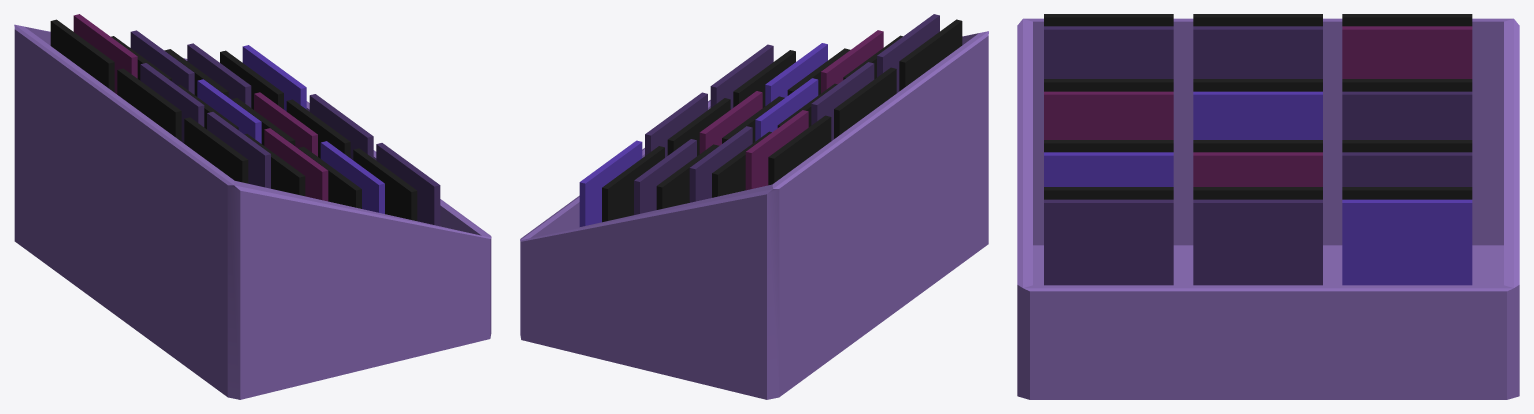
Rendered from CardPackaging(EveLMart).fbx.
3 views of the same model, side by side, from view 1: azimuth 30°, elevation 25°; view 2: azimuth 150°, elevation 25°; view 3: azimuth 270°, elevation 25° (orthographic). The views are drawn at different scales.
Visible parts, largest first — view 1: Card_Holder; view 2: Card_Holder; view 3: Card_Holder.
Boxes of the visible parts, box(x1,y1,x2,y2) form: Card_Holder: box(14, 14, 491, 399); Card_Holder: box(520, 14, 988, 399); Card_Holder: box(1017, 14, 1519, 399).
Bounding box in the file's own units: 22.36 × 18.37 × 33.02.
